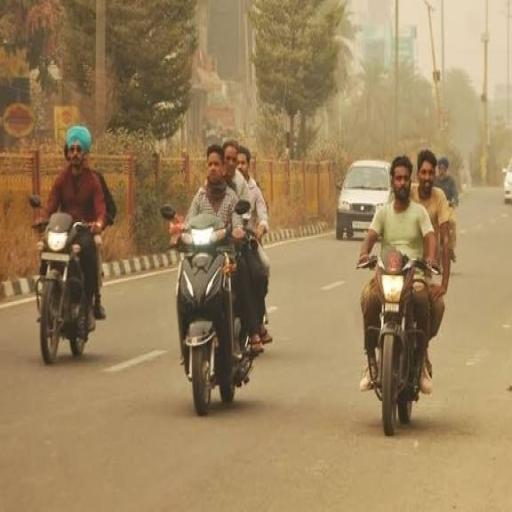no_helmet: (388, 153, 416, 204), (67, 125, 89, 172), (206, 141, 226, 187)
